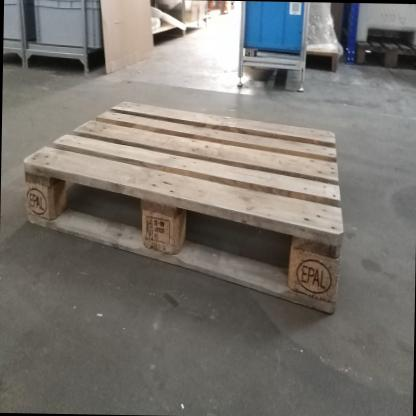BoxFace: (20, 95, 346, 325)
